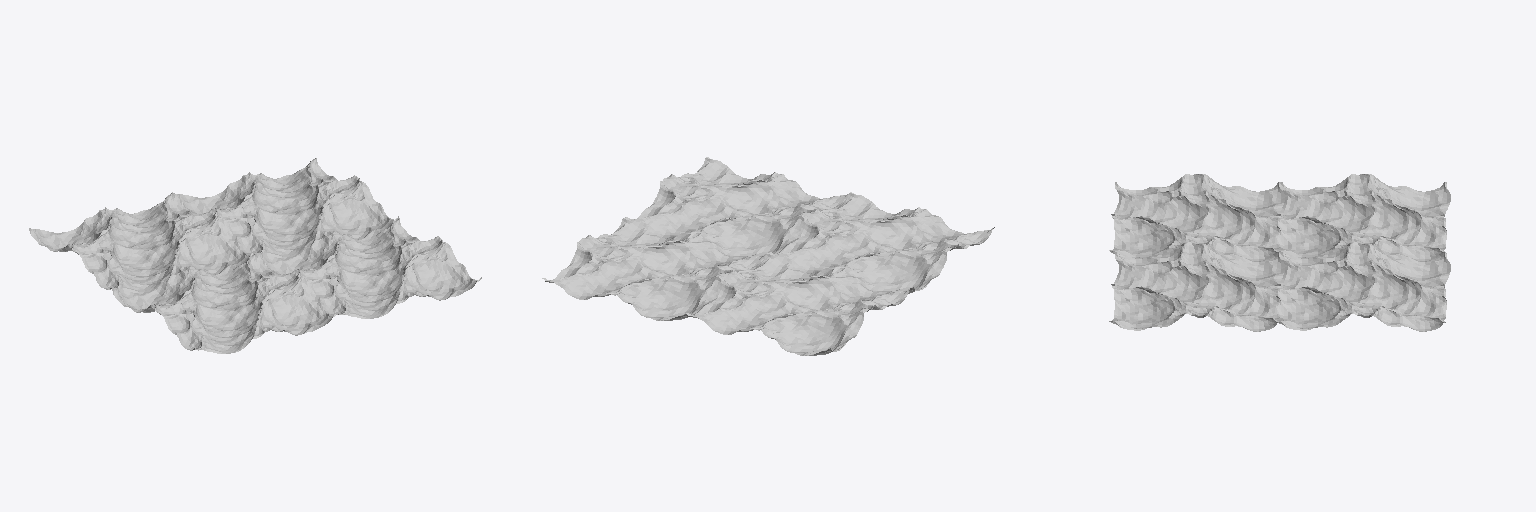
The model's file is waves.obj.
3 renders of one model, left to right at view 1: azimuth 30°, elevation 25°; view 2: azimuth 150°, elevation 25°; view 3: azimuth 270°, elevation 25°, orthographic.
Visible parts, largest first — view 1: object_0; view 2: object_0; view 3: object_0.
Boxes of the visible parts, x1=… form: object_0: x1=29, y1=158, x2=481, y2=353; object_0: x1=542, y1=157, x2=994, y2=355; object_0: x1=1109, y1=174, x2=1450, y2=331.
Bounding box in the file's own units: 10199 × 959 × 10302.